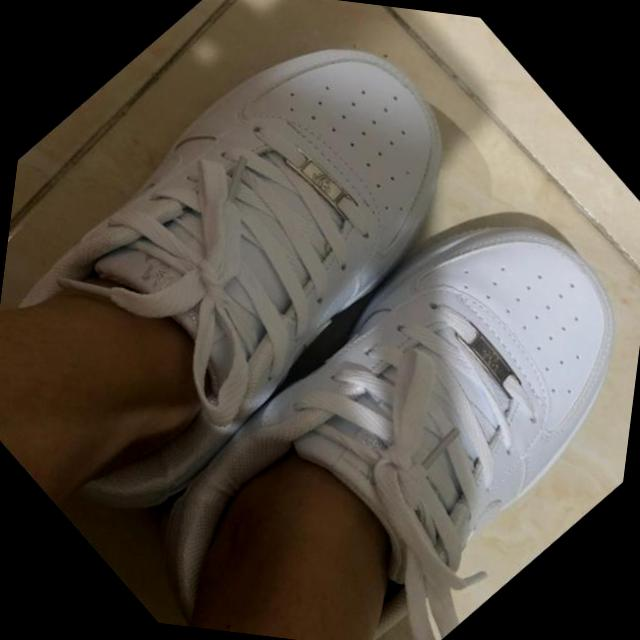nike_fake_airforce: (0, 0, 538, 583), (89, 111, 640, 640)
